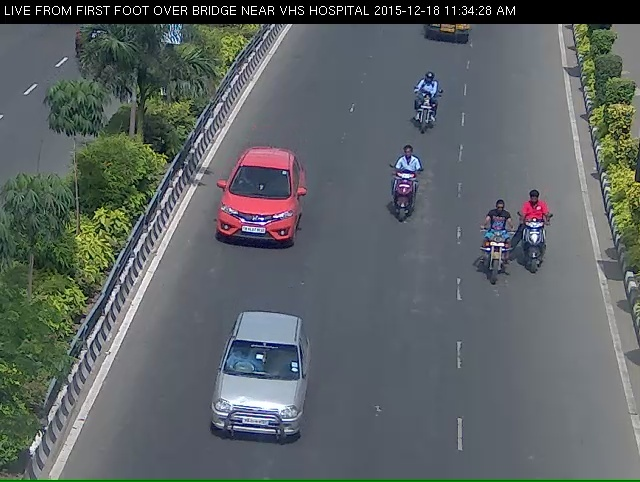Car: (209, 327, 308, 473), (200, 141, 296, 282)
Person: (520, 201, 557, 304), (382, 151, 422, 245), (403, 77, 449, 140), (489, 211, 513, 314)
